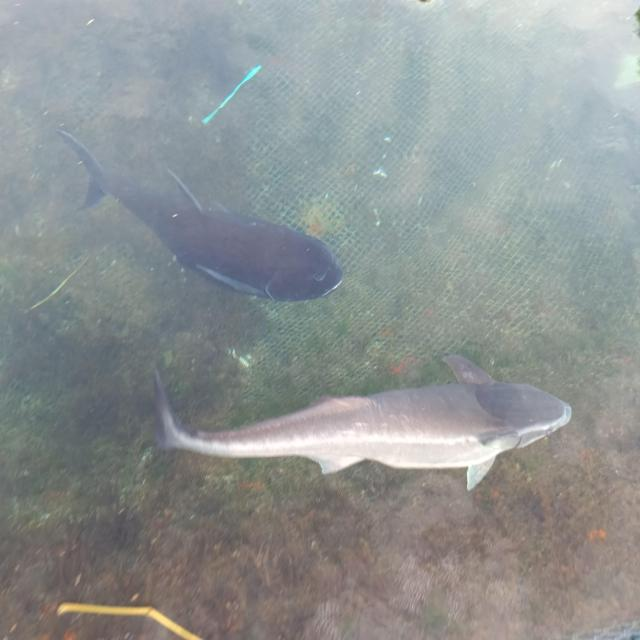ikan: (152, 352, 572, 491), (54, 126, 344, 304)
